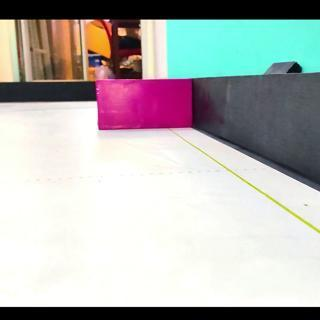xparking: (96, 79, 192, 128)
